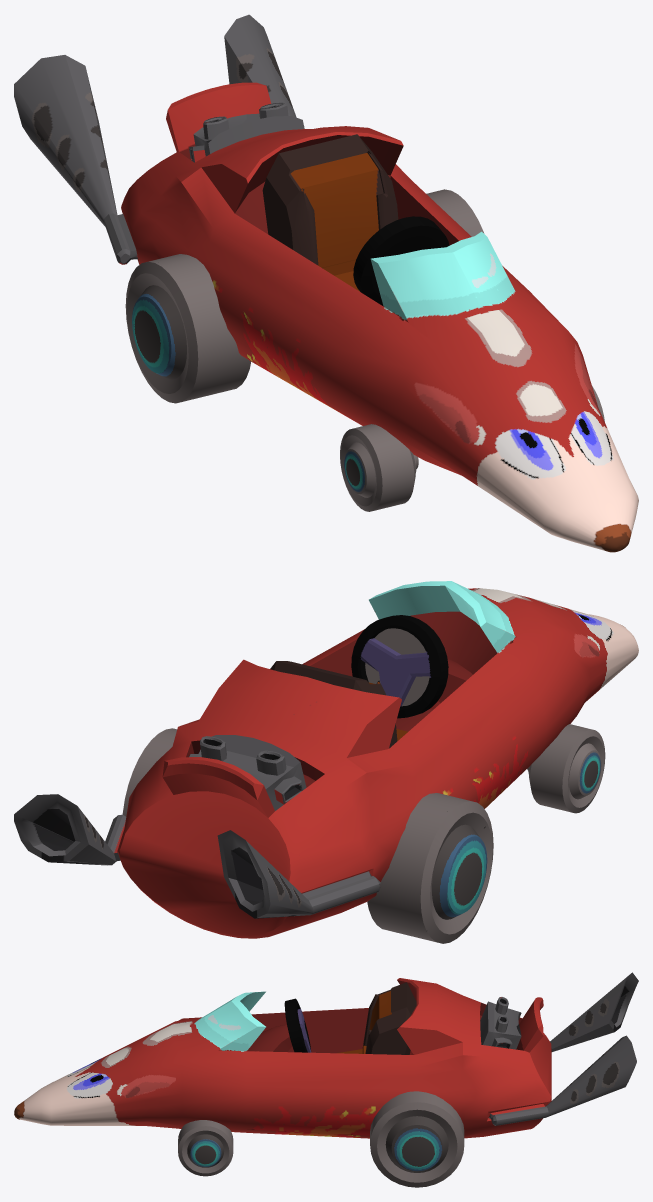
File: kartSpeedMegaKart(22-03-19).fbx
3 renders of one model, top to bottom at view 1: azimuth 30°, elevation 25°; view 2: azimuth 150°, elevation 25°; view 3: azimuth 270°, elevation 25°, orthographic. The views are drawn at different scales.
Visible parts, largest first — view 1: chasse, tireBack2, tirelFront2, wheel, tireBack1; view 2: chasse, tireBack2, wheel, tirelFront2, tireBack1; view 3: chasse, tireBack1, tireFront1, wheel.
Boxes of the visible parts, bbox=[...] form: chasse: bbox=[14, 14, 638, 552]; tireBack2: bbox=[125, 254, 250, 403]; tirelFront2: bbox=[340, 424, 418, 511]; wheel: bbox=[353, 216, 449, 306]; tireBack1: bbox=[426, 189, 484, 236]; chasse: bbox=[14, 581, 638, 938]; tireBack2: bbox=[367, 793, 493, 943]; wheel: bbox=[351, 615, 448, 718]; tirelFront2: bbox=[527, 724, 605, 813]; tireBack1: bbox=[122, 728, 177, 816]; chasse: bbox=[14, 972, 638, 1138]; tireBack1: bbox=[370, 1091, 464, 1187]; tireFront1: bbox=[178, 1120, 233, 1176]; wheel: bbox=[284, 998, 311, 1052].
Bounding box in the file's own units: 367 × 244 × 945.
